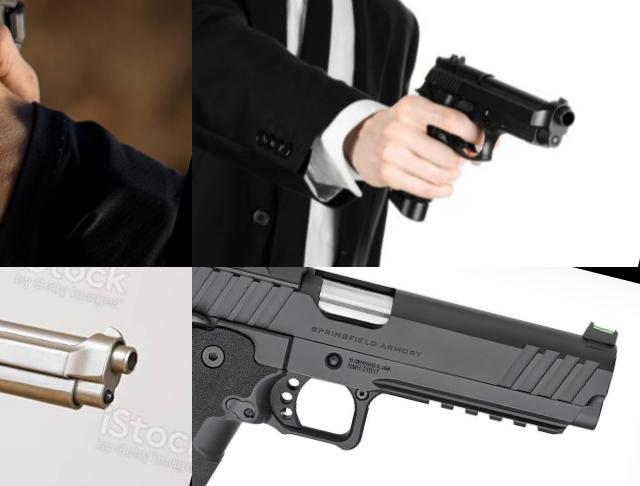handgun: (192, 267, 640, 486), (0, 0, 192, 267), (377, 42, 587, 255), (0, 267, 192, 486)
